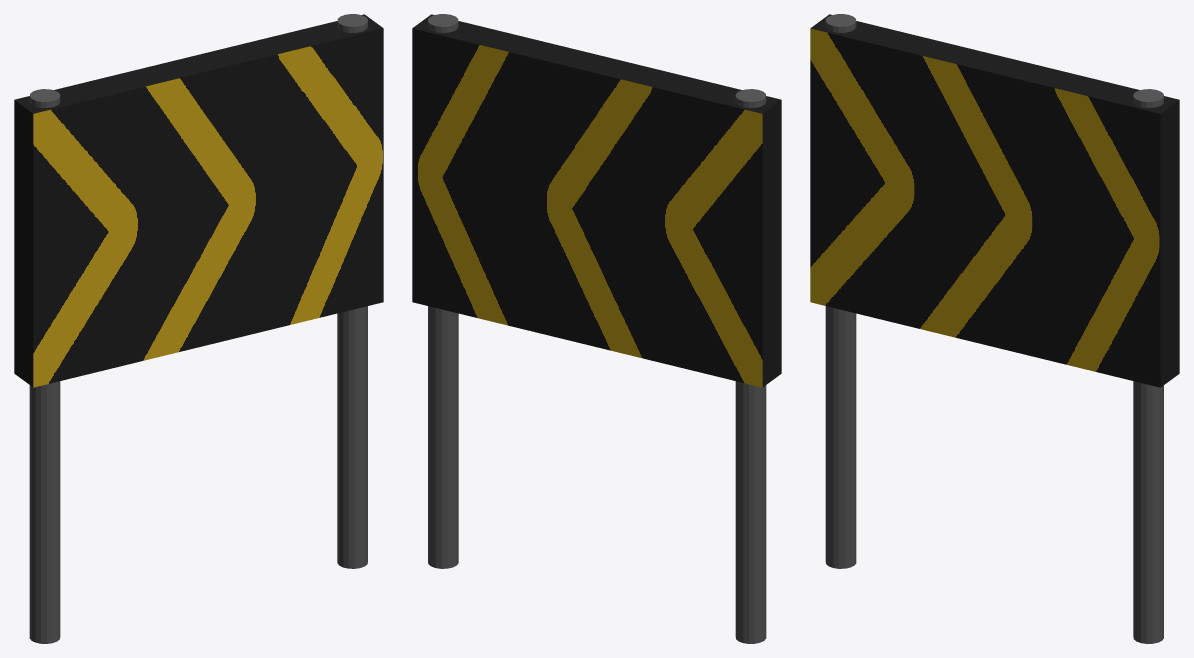
File: Esteita_nuolikylttiuusi.fbx
The picture shows the model from 3 angles, left to right: view 1: azimuth 30°, elevation 25°; view 2: azimuth 150°, elevation 25°; view 3: azimuth 330°, elevation 25°; orthographic projection.
Visible parts, largest first — view 1: Cylinder.001; view 2: Cylinder.001; view 3: Cylinder.001.
Boxes of the visible parts, x1,y1,x2,y2 form: Cylinder.001: (14,14,383,643); Cylinder.001: (412,14,781,643); Cylinder.001: (810,14,1179,643).
Size of the model in its own units: 2.28 by 3.37 by 0.2169.
